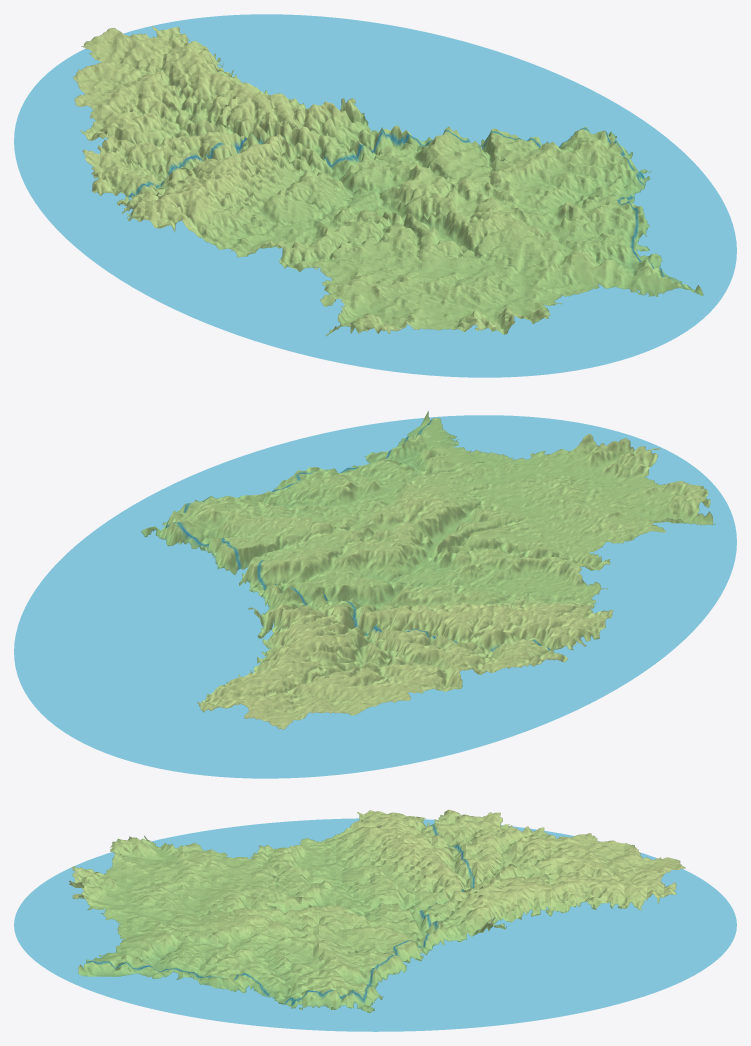
File: LUX-terrain.glb
The picture shows the model from 3 angles, top to bottom: view 1: azimuth 30°, elevation 25°; view 2: azimuth 150°, elevation 25°; view 3: azimuth 270°, elevation 25°; orthographic projection. The views are drawn at different scales.
Visible parts, largest first — view 1: Relevo com hidrografia; view 2: Relevo com hidrografia; view 3: Relevo com hidrografia.
Boxes of the visible parts, bbox=[...] form: Relevo com hidrografia: bbox=[14, 14, 736, 377]; Relevo com hidrografia: bbox=[14, 411, 736, 778]; Relevo com hidrografia: bbox=[14, 809, 736, 1031].
Size of the model in its own units: 1.32 by 0.0939 by 1.88.
Materials: 2 (1 with a texture image).
